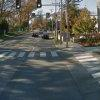Crosswalk: (2, 42, 79, 64)
